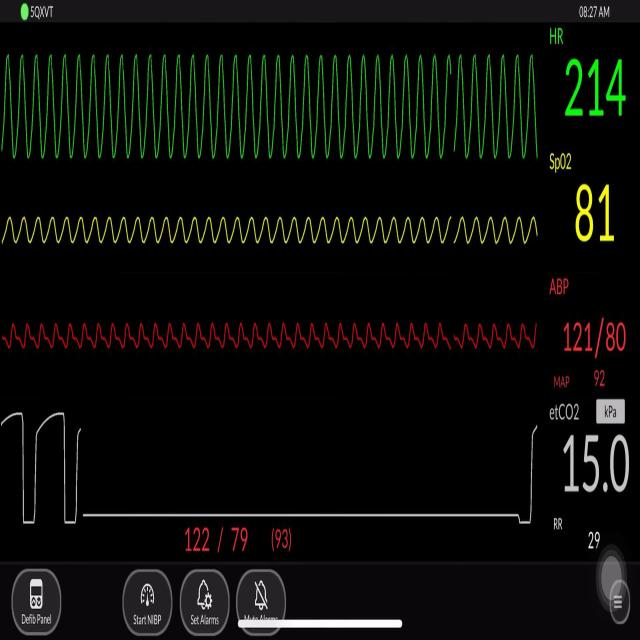danger: (0, 39, 537, 168)
